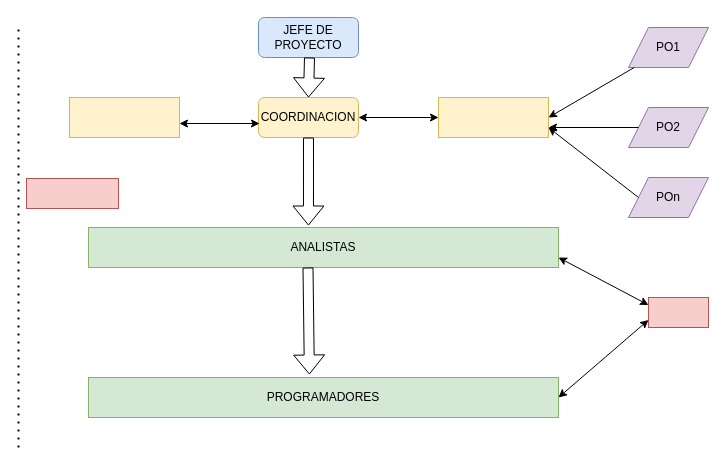
Some shapes in this 726 by 467 pixel diagram are drawn without their labels. Each missing label, with the centre of its shape:
"CAP" belongs at point 678,312.
"COLABORADOR" belongs at point 124,117.
"REUNIONES" belongs at point 72,193.
"SCRUN MASTER" belongs at point 493,117.
